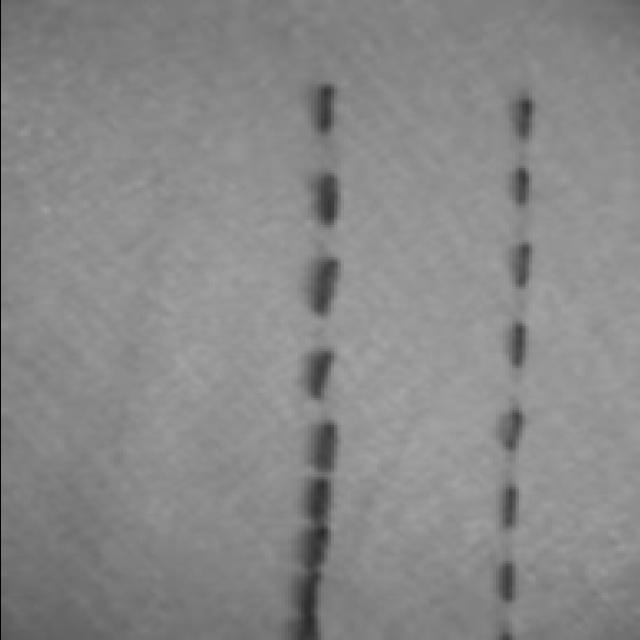stitch: (501, 401, 525, 453), (303, 526, 331, 568), (320, 174, 341, 226), (312, 477, 333, 525), (300, 576, 325, 614), (317, 260, 335, 312), (314, 353, 333, 396), (319, 424, 335, 469), (295, 612, 319, 640), (512, 323, 527, 367), (516, 243, 530, 287), (320, 85, 333, 130), (515, 167, 530, 205), (503, 486, 517, 526), (517, 99, 529, 140), (500, 563, 513, 599), (501, 631, 513, 640)
